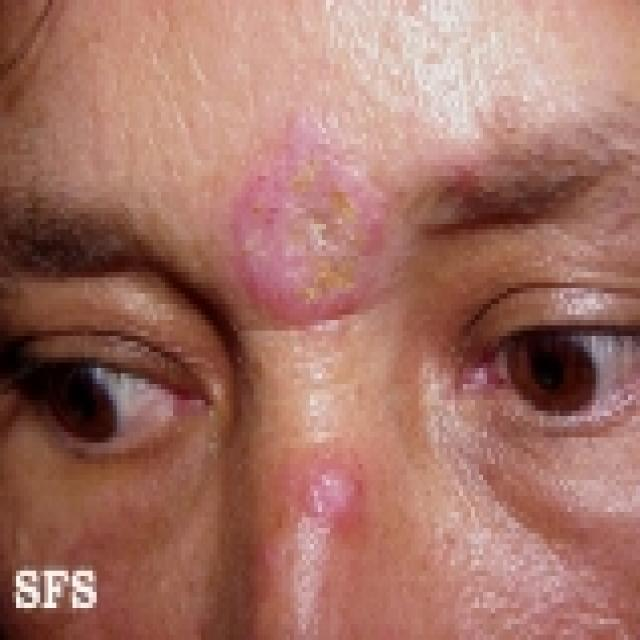lupus: (226, 126, 394, 534)
